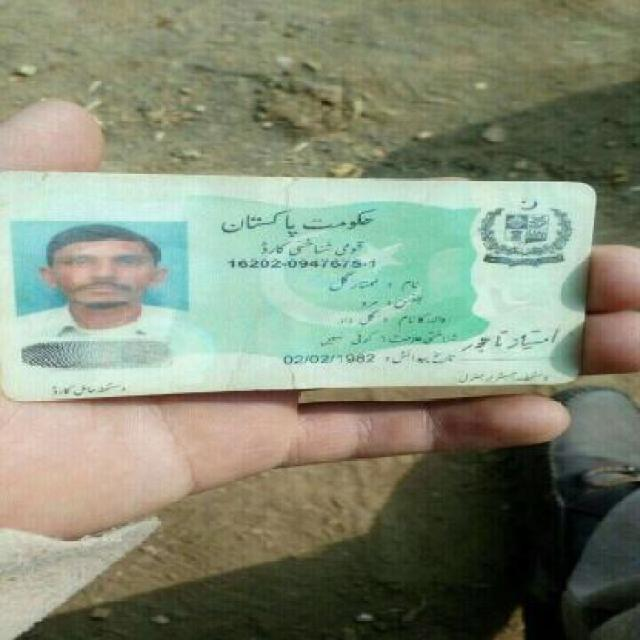Front: (6, 160, 606, 397)
